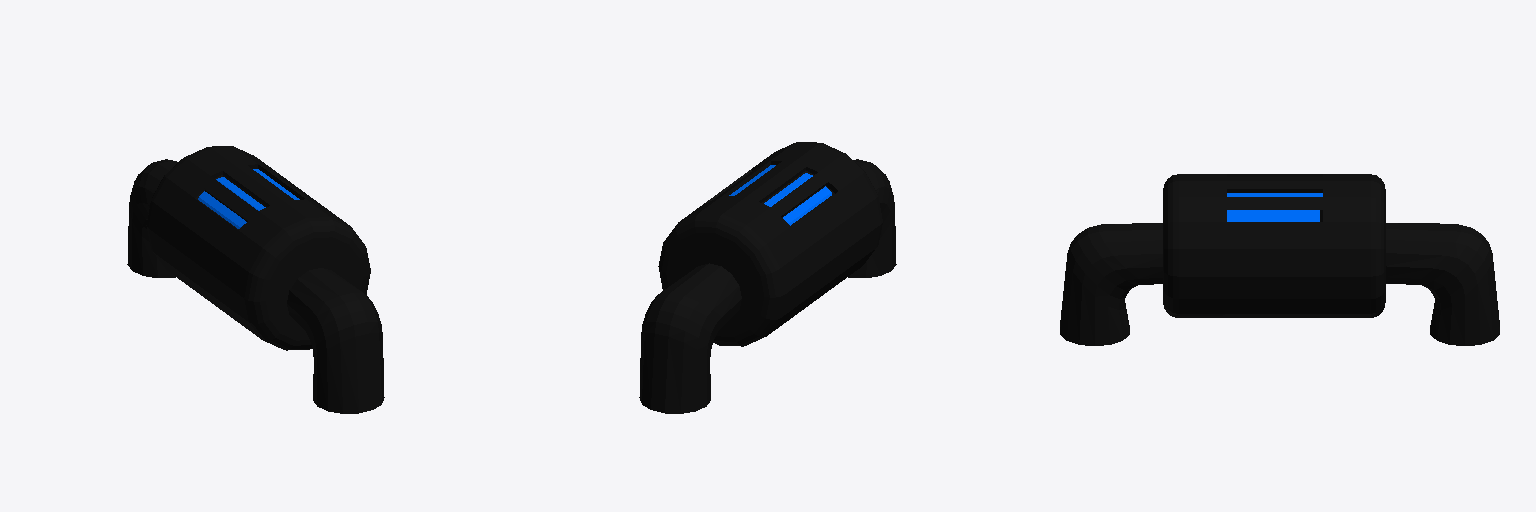
The model's file is SciFiEngine.obj.
3 views of the same model, side by side, from view 1: azimuth 30°, elevation 25°; view 2: azimuth 150°, elevation 25°; view 3: azimuth 270°, elevation 25° (orthographic).
Visible parts, largest first — view 1: Body, Pipe1, Pipe2, BlueStuff; view 2: Body, Pipe2, Pipe1, BlueStuff; view 3: Body, Pipe2, Pipe1, BlueStuff.
Boxes of the visible parts, <box> form: Body: <box>146,146,370,350</box>; Pipe1: <box>287,268,384,413</box>; Pipe2: <box>127,159,177,277</box>; BlueStuff: <box>198,169,299,228</box>; Body: <box>658,142,882,346</box>; Pipe2: <box>639,263,741,413</box>; Pipe1: <box>848,159,896,277</box>; BlueStuff: <box>729,165,831,225</box>; Body: <box>1163,174,1385,317</box>; Pipe2: <box>1386,223,1499,345</box>; Pipe1: <box>1060,223,1162,345</box>; BlueStuff: <box>1227,193,1322,221</box>.
Bounding box in the file's own units: 2 × 2.3 × 6.11.